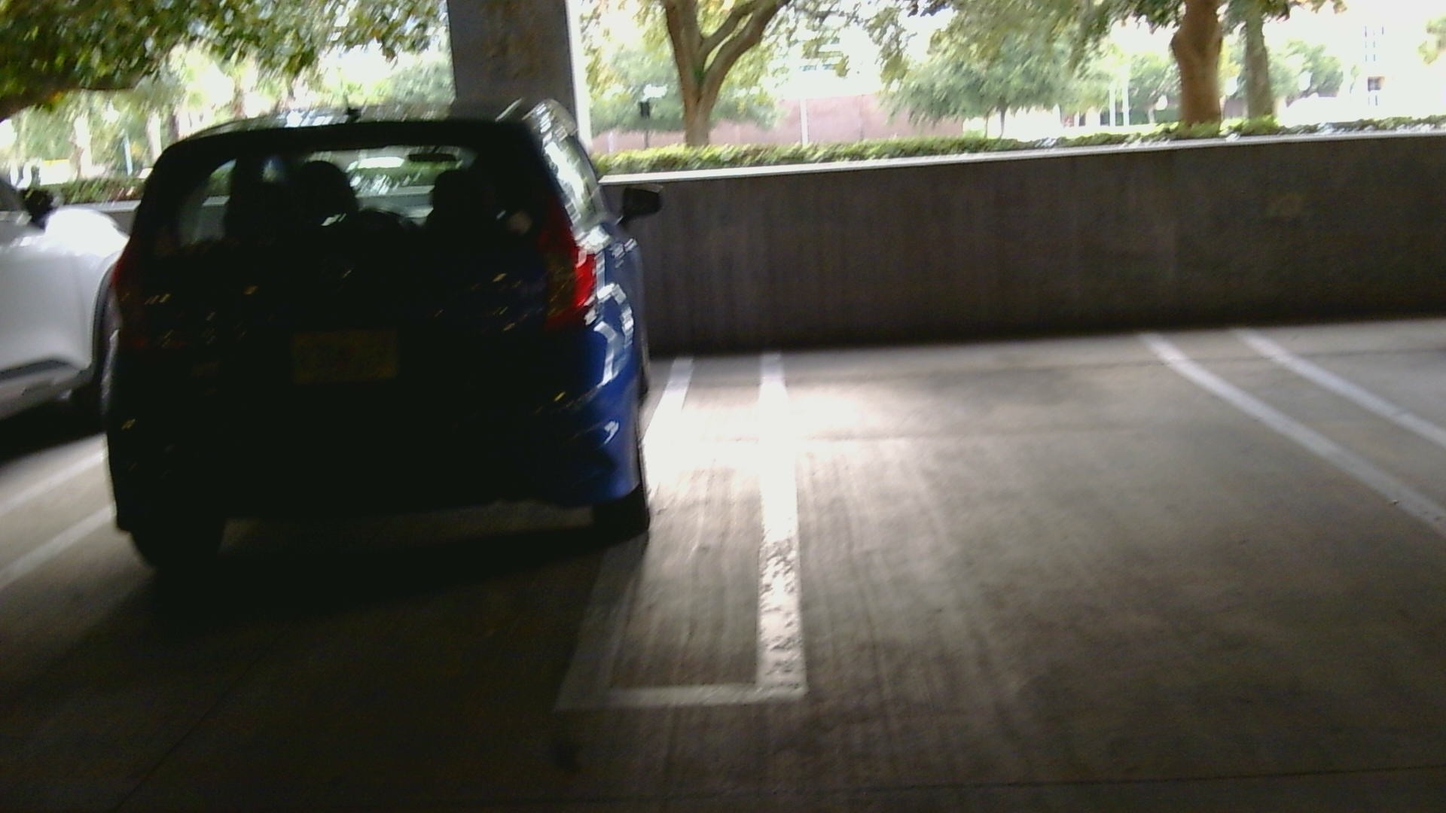empty_spot: (672, 208, 1446, 703), (1213, 213, 1445, 467)
occupied_spot: (83, 62, 680, 576), (0, 144, 132, 506)
